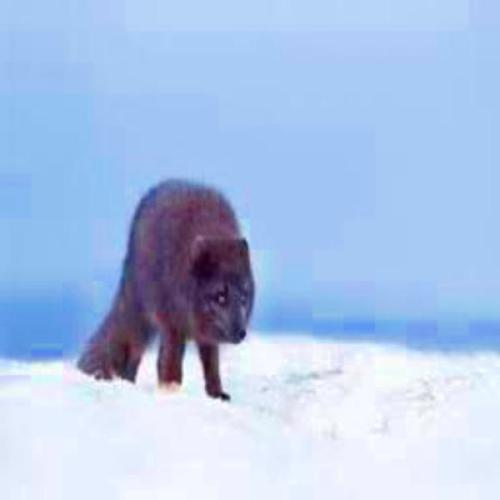arctic_fox-endangered: (78, 181, 256, 401)
